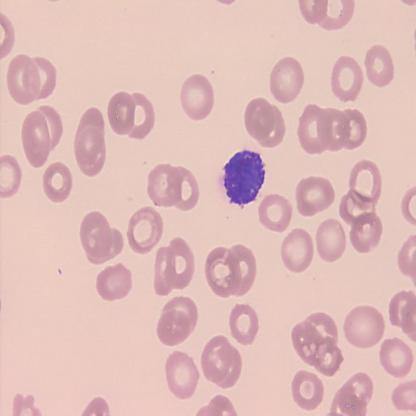Basophil: (220, 148, 269, 209)
